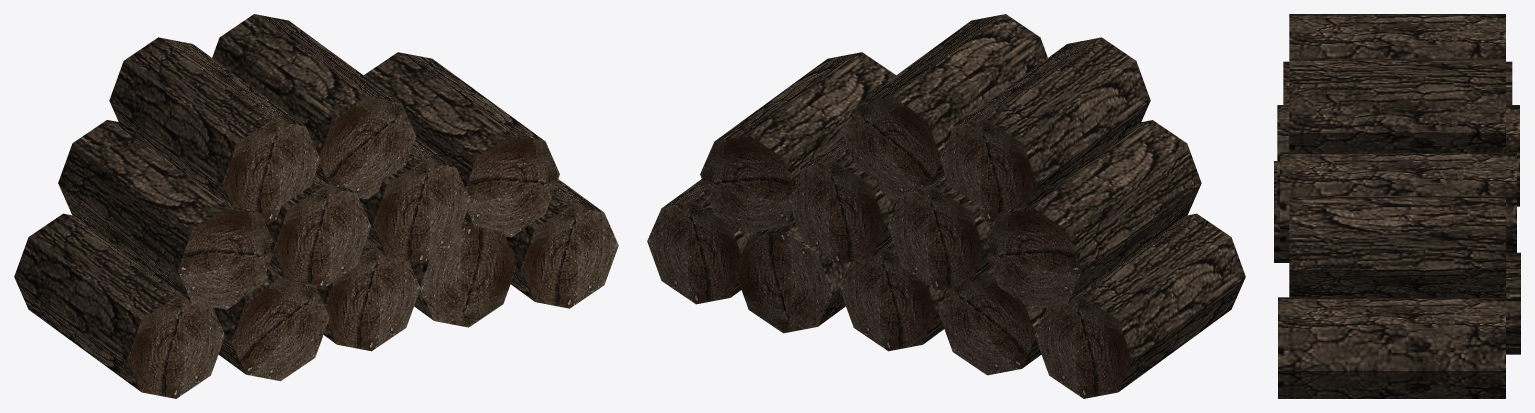
The model's file is Logs 2.fbx.
3 renders of one model, left to right at view 1: azimuth 30°, elevation 25°; view 2: azimuth 150°, elevation 25°; view 3: azimuth 270°, elevation 25°, orthographic. The views are drawn at different scales.
Visible parts, largest first — view 1: Logs 2; view 2: Logs 2; view 3: Logs 2.
Part boxes in pixels (x1,y1,x2,y2): Logs 2: (14,14,618,398); Logs 2: (647,14,1245,398); Logs 2: (1274,14,1520,398).
Bounding box in the file's own units: 1.26 × 0.6317 × 0.5777.
